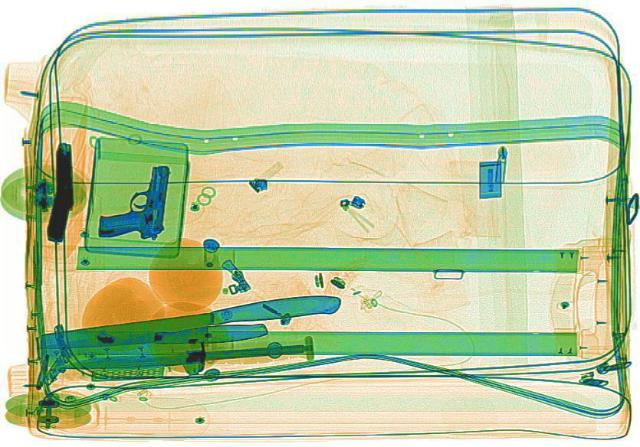Gun: (95, 161, 172, 240), (45, 142, 75, 241)
Knife: (26, 289, 352, 377), (56, 341, 304, 372), (37, 321, 267, 347)
